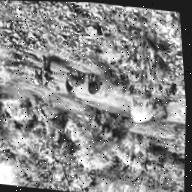boar: (124, 89, 160, 133), (65, 64, 95, 91), (39, 58, 56, 88), (84, 75, 100, 100), (65, 85, 71, 96)
